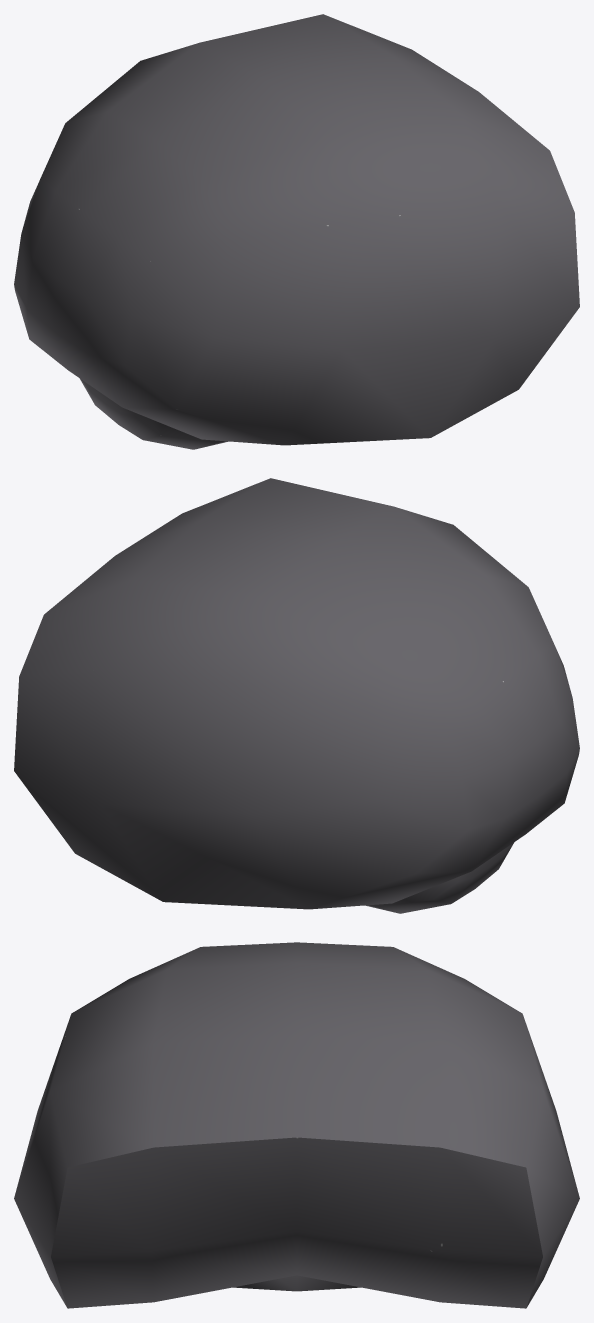
Rendered from Seal Snout.fbx.
The picture shows the model from 3 angles, top to bottom: view 1: azimuth 30°, elevation 25°; view 2: azimuth 150°, elevation 25°; view 3: azimuth 270°, elevation 25°; orthographic projection. The views are drawn at different scales.
Parts seen in each view (by area): view 1: Seal Snout; view 2: Seal Snout; view 3: Seal Snout.
Part boxes in pixels (bbox=[...]): Seal Snout: bbox=[14, 14, 579, 449]; Seal Snout: bbox=[14, 478, 579, 913]; Seal Snout: bbox=[14, 942, 579, 1308].
Size of the model in its own units: 1.08 by 1.2 by 0.7855.
